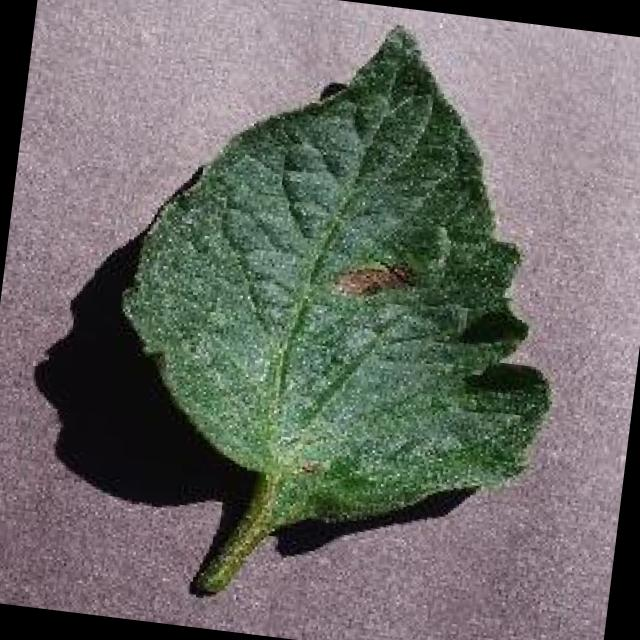Tomato_Early_Blight: (284, 164, 459, 388)
